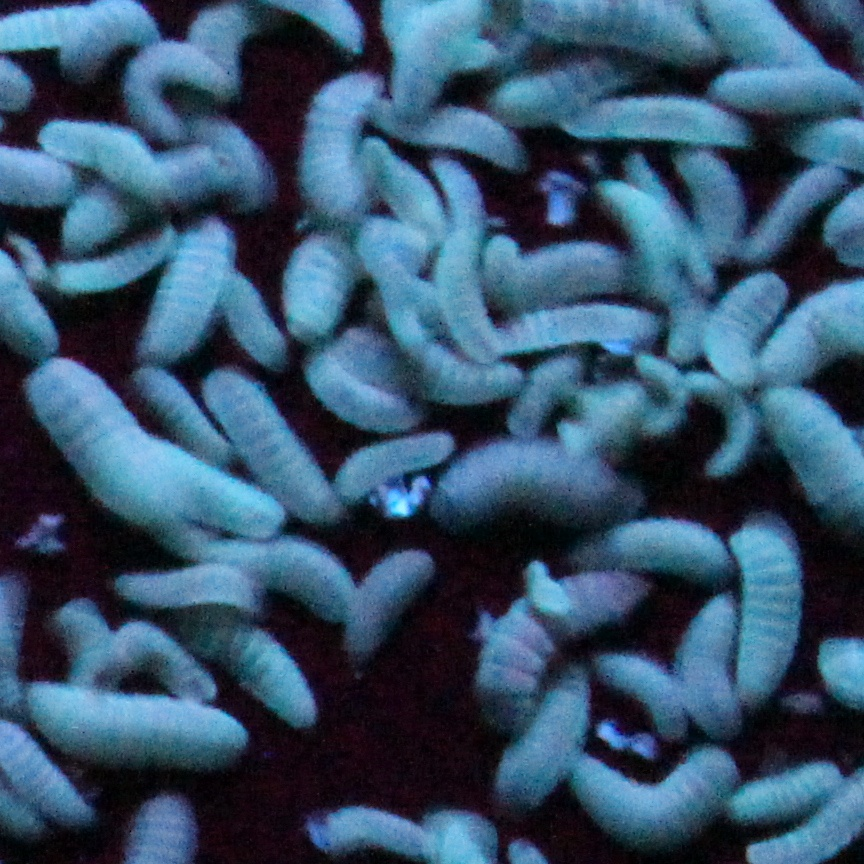larve: (29, 357, 181, 530), (207, 371, 350, 524), (24, 681, 254, 773), (171, 614, 328, 723), (573, 742, 738, 843), (445, 438, 642, 521), (728, 505, 802, 707), (45, 116, 185, 211), (493, 669, 590, 802), (138, 218, 229, 359), (366, 95, 523, 168), (595, 178, 685, 304), (736, 162, 845, 266), (297, 74, 373, 216), (133, 371, 240, 469), (126, 42, 233, 138), (576, 519, 740, 581), (348, 549, 435, 662), (557, 97, 754, 143), (305, 355, 417, 435), (681, 373, 766, 478), (109, 564, 267, 618), (593, 654, 685, 745), (445, 230, 505, 369), (685, 597, 742, 735), (283, 228, 352, 340), (500, 305, 664, 352), (716, 273, 786, 383), (309, 807, 443, 864), (502, 243, 638, 299), (338, 433, 454, 493), (716, 73, 864, 114), (735, 761, 840, 816)
